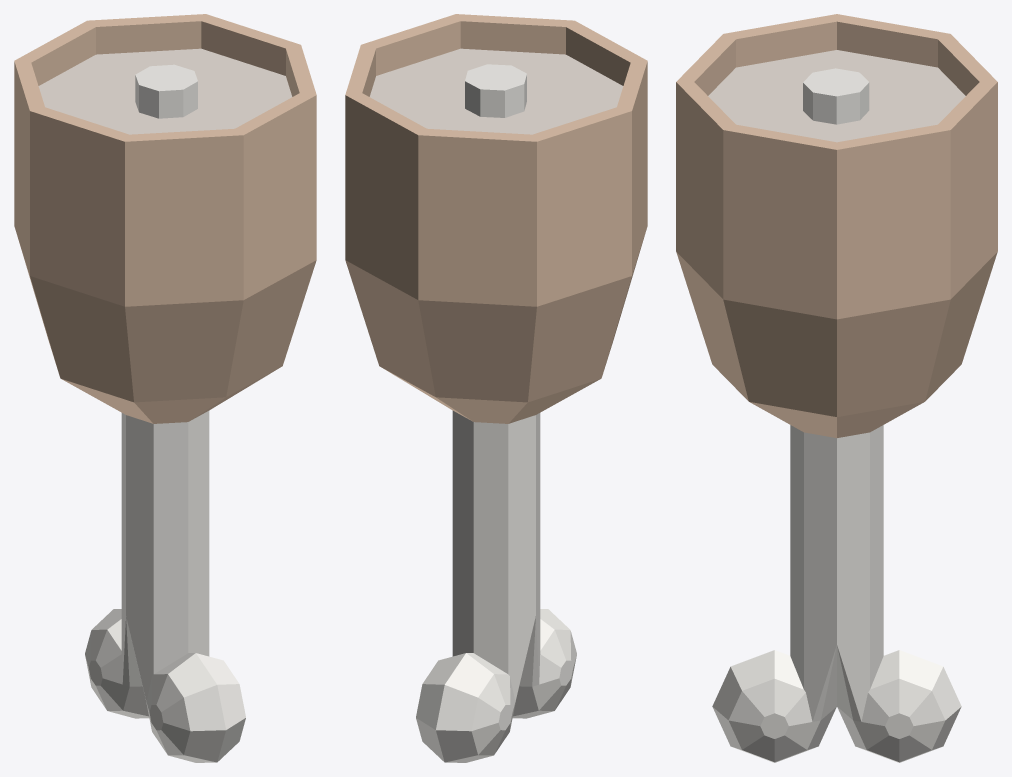
File: Meat.fbx
3 renders of one model, left to right at view 1: azimuth 30°, elevation 25°; view 2: azimuth 150°, elevation 25°; view 3: azimuth 270°, elevation 25°, orthographic. The views are drawn at different scales.
Parts seen in each view (by area): view 1: Meat; view 2: Meat; view 3: Meat.
Part boxes in pixels (x1,y1,x2,y2): Meat: [14, 14, 316, 762]; Meat: [345, 14, 647, 762]; Meat: [676, 14, 997, 762].
Size of the model in its own units: 0.1548 by 0.3616 by 0.1548.
